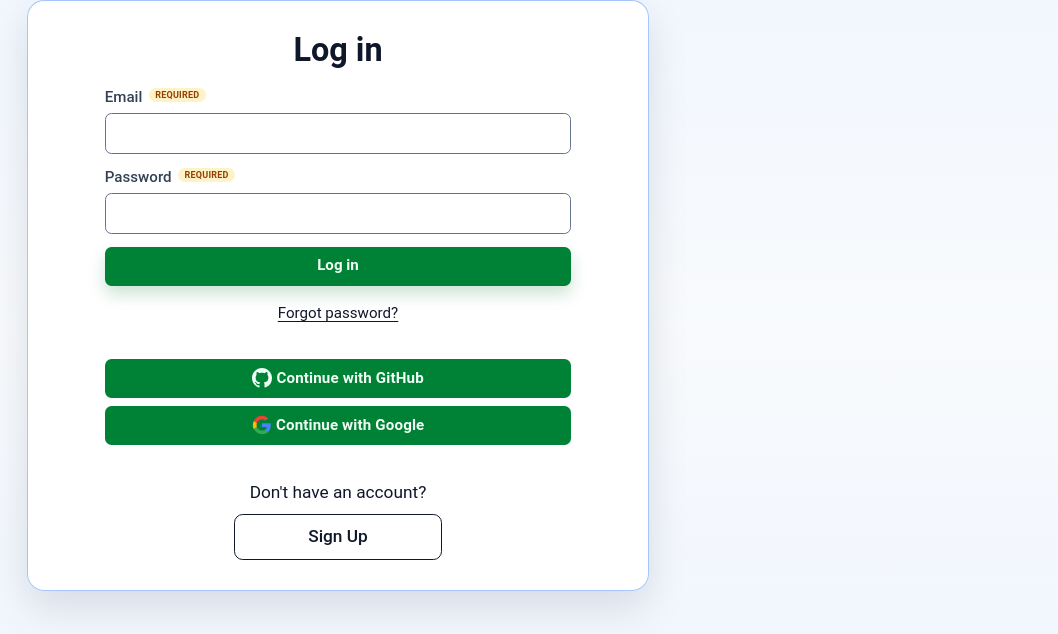
Test: LogIn Form Submit › shows a translated error after submitting with wrong credentials
This screenshot has width=1058, height=634.
Type "existing@user.com" into the field labelled "Email required" at (338, 134), box [105,113,571,154]
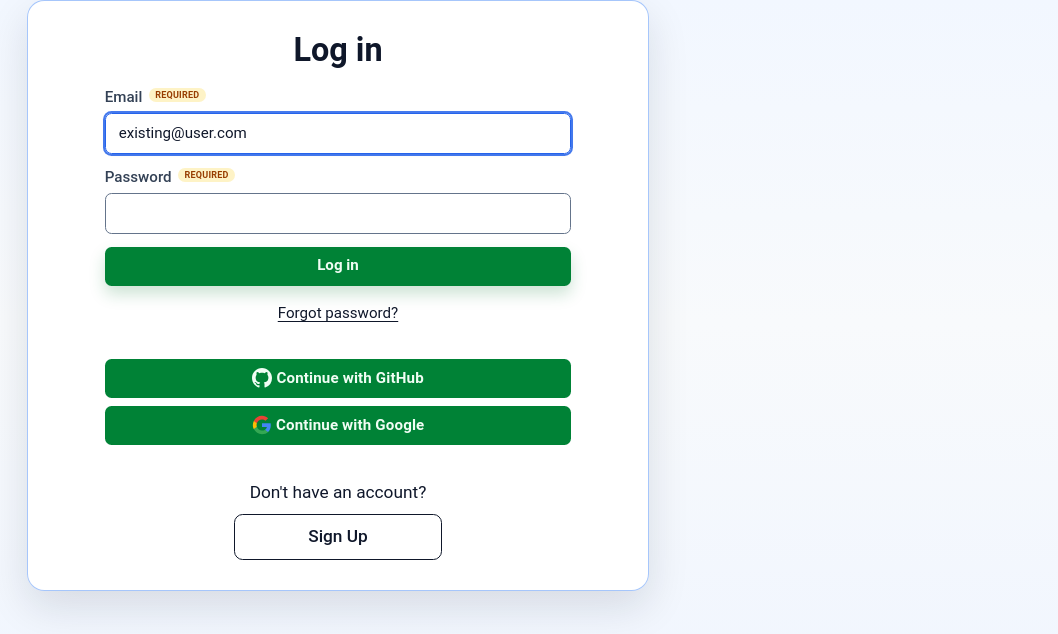
Type "Password123" into the password field labelled "Password required" at (338, 213), box [105,193,571,234]
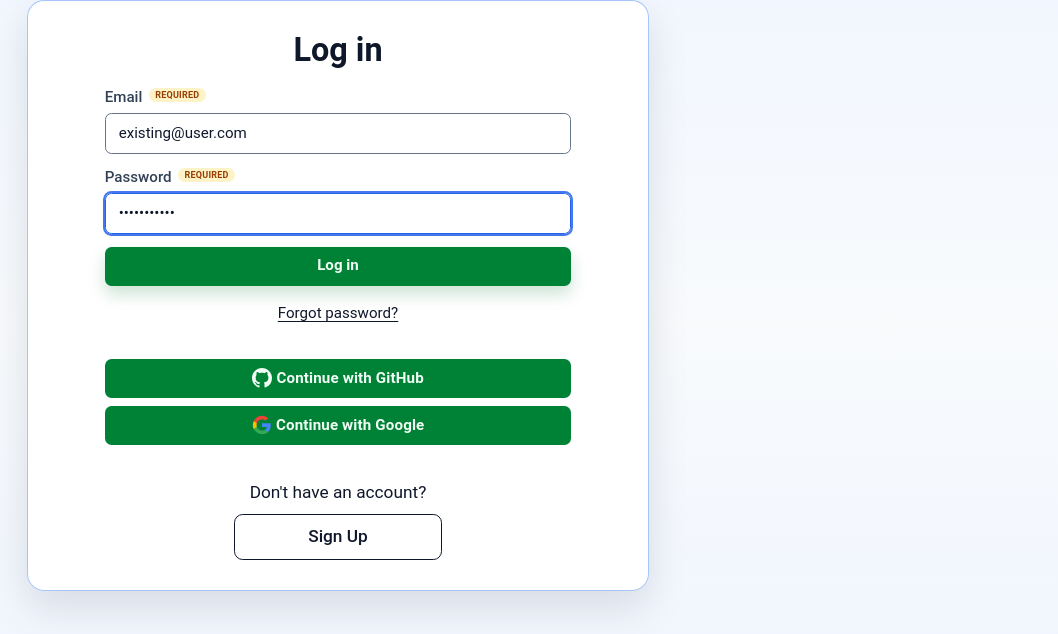
Click the button "Log in" at (338, 266), box [105,247,571,286]
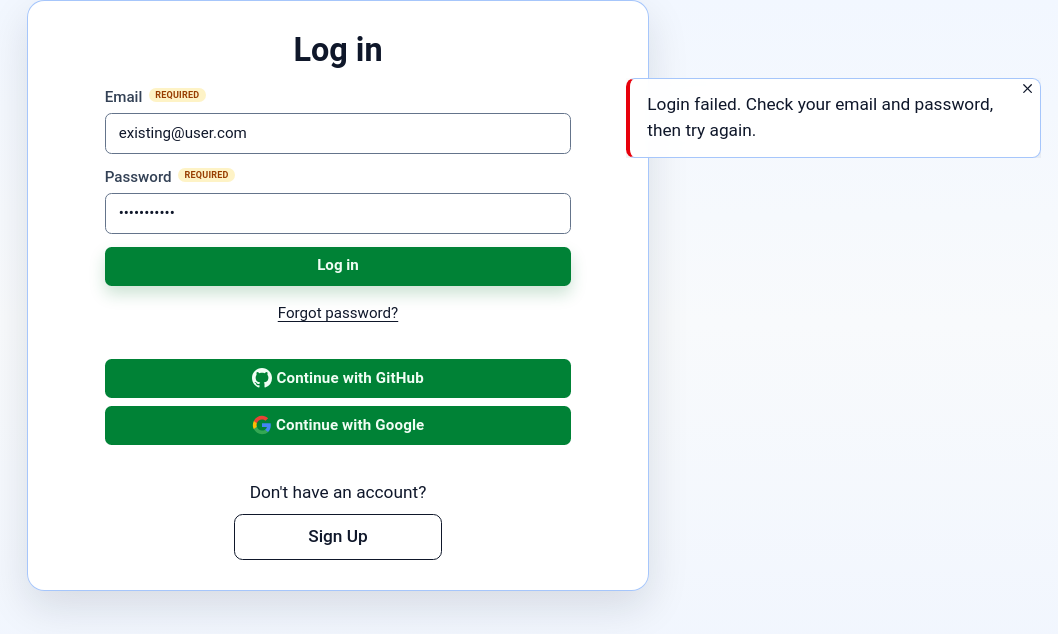
Check: the text "Login failed. Check your email and password, then try again." is shown, box [647,92,1022,144]
